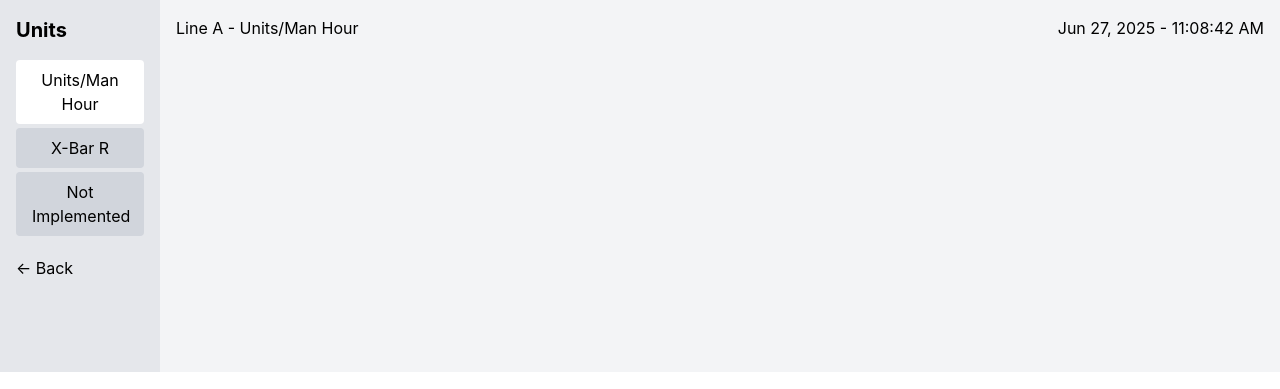
Test: LineUnitsPage › shows not implemented message for unknown view
The width and height of the screenshot is (1280, 389).
Click the button with test id "tab-not-implemented": point(80, 204) [16, 172, 144, 236]
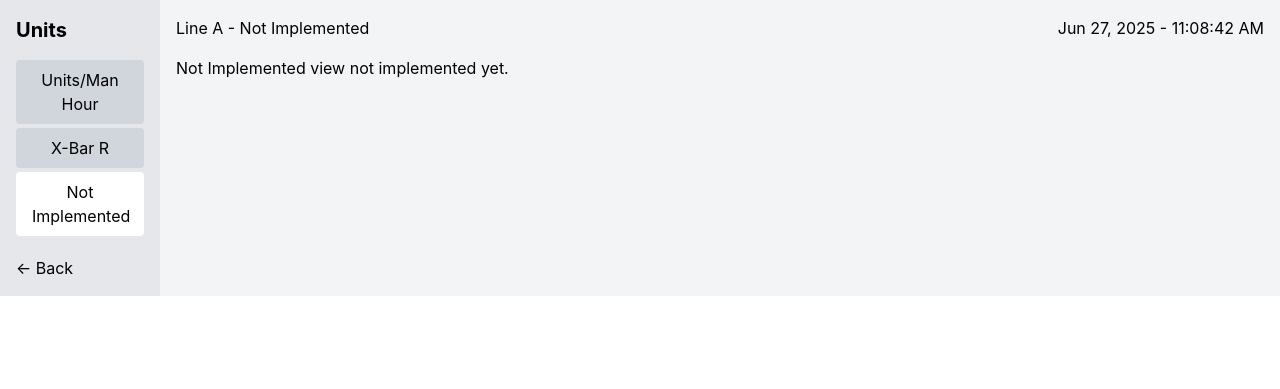
Check: the text with test id "graph-not-implemented" reads "Not Implemented view not implemented yet.", box [176, 58, 509, 78]
